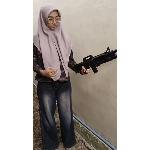Senapan: (72, 46, 118, 78)
